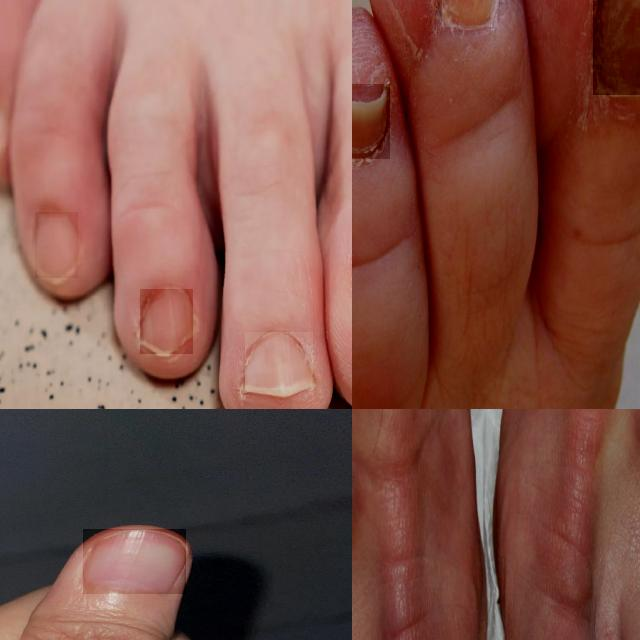diabetes: (352, 84, 390, 159), (444, 0, 497, 27)
sehat: (84, 529, 186, 594), (246, 332, 313, 390), (141, 290, 193, 354), (35, 212, 78, 278)
